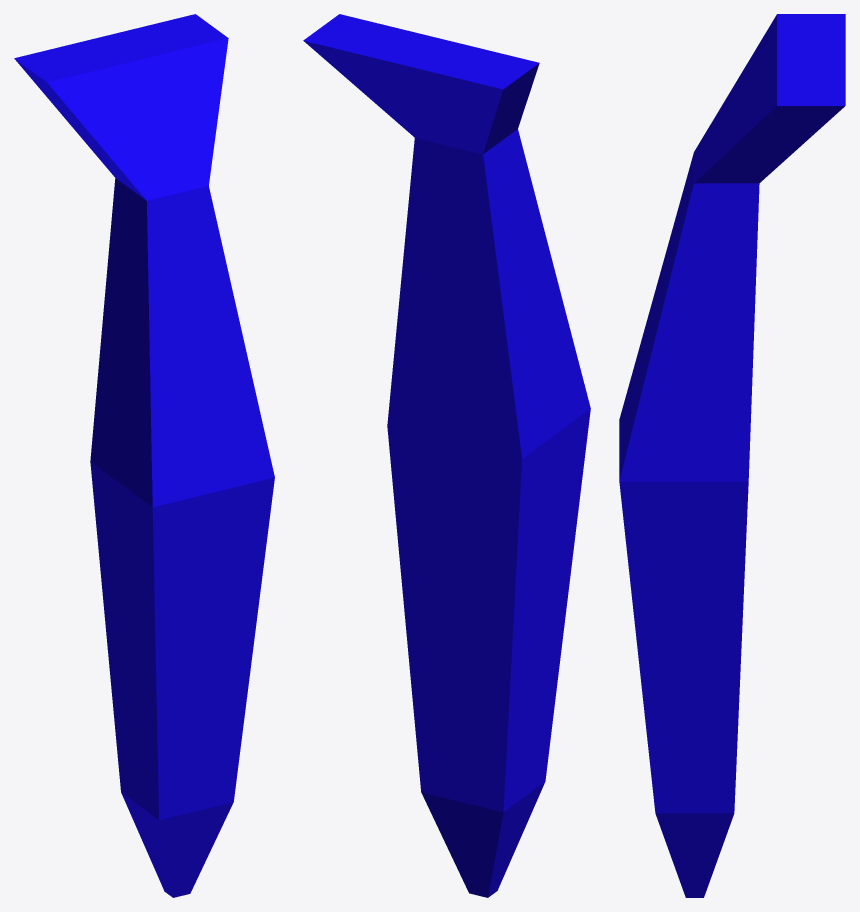
The model's file is Tie Blue.fbx.
3 views of the same model, side by side, from view 1: azimuth 30°, elevation 25°; view 2: azimuth 150°, elevation 25°; view 3: azimuth 270°, elevation 25° (orthographic). The views are drawn at different scales.
Parts seen in each view (by area): view 1: Tie Blue; view 2: Tie Blue; view 3: Tie Blue.
Boxes of the visible parts, x1,y1,x2,y2 form: Tie Blue: (14, 14, 274, 897); Tie Blue: (303, 14, 590, 897); Tie Blue: (619, 14, 845, 897).
Size of the model in its own units: 11.47 by 48.49 by 11.93.
Materials: 1 (1 with a texture image).
